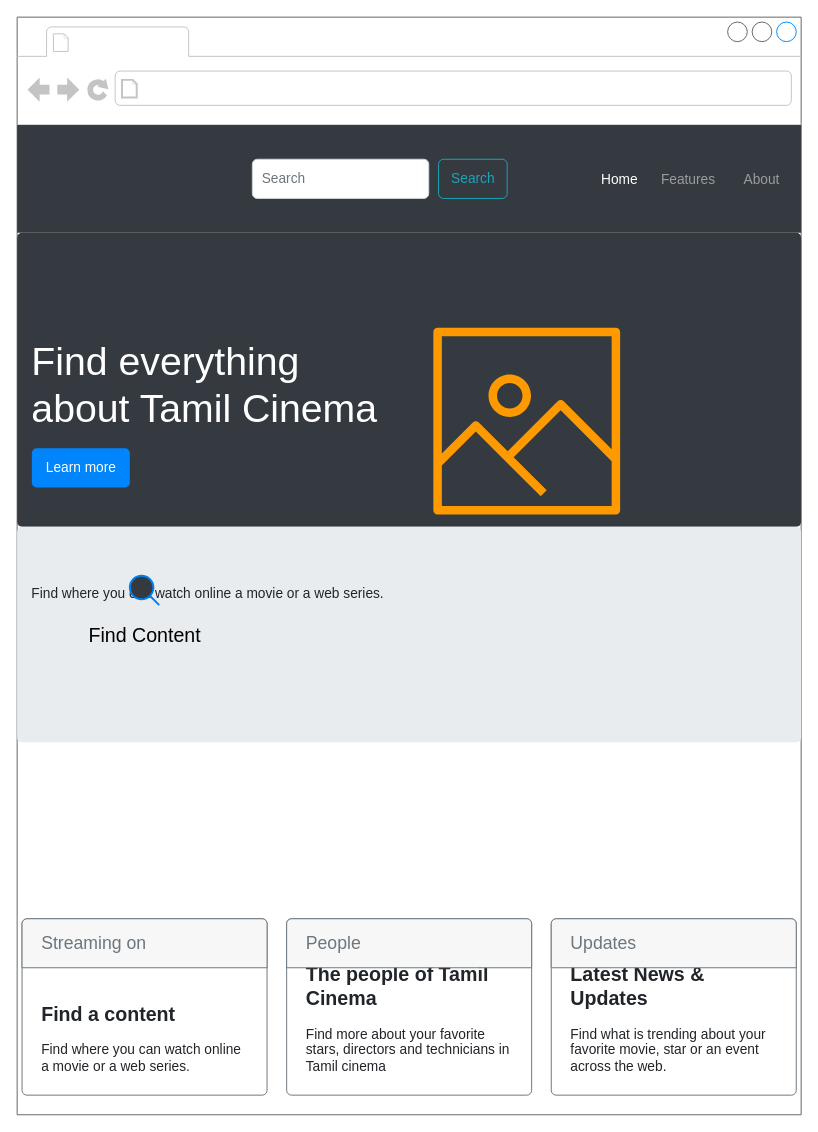
Some shapes in this 818 by 1132 pixel diagram are drawn without their labels. Here are the shapes that lost their labels. From the top down, the centre of each, then its label:
At (x=129, y=41): "Page 1".
At (x=267, y=88): "https://www.draw.io".
At (x=409, y=178): "tamilcinemainfo".
